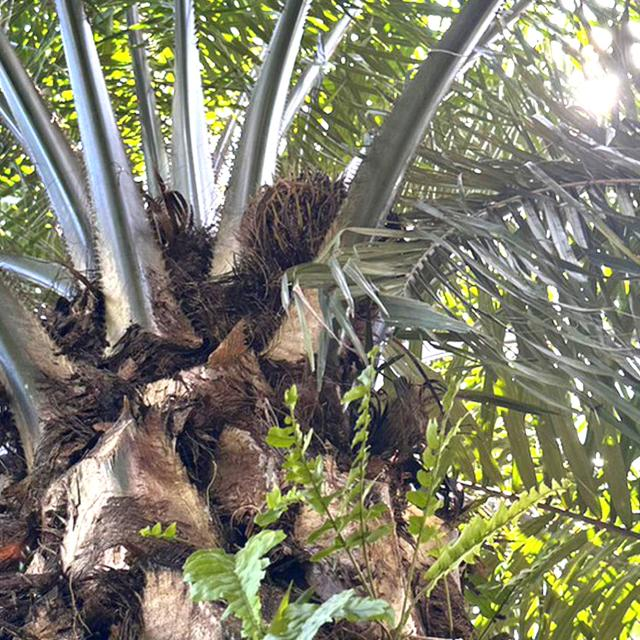unripe: (246, 167, 355, 266)
